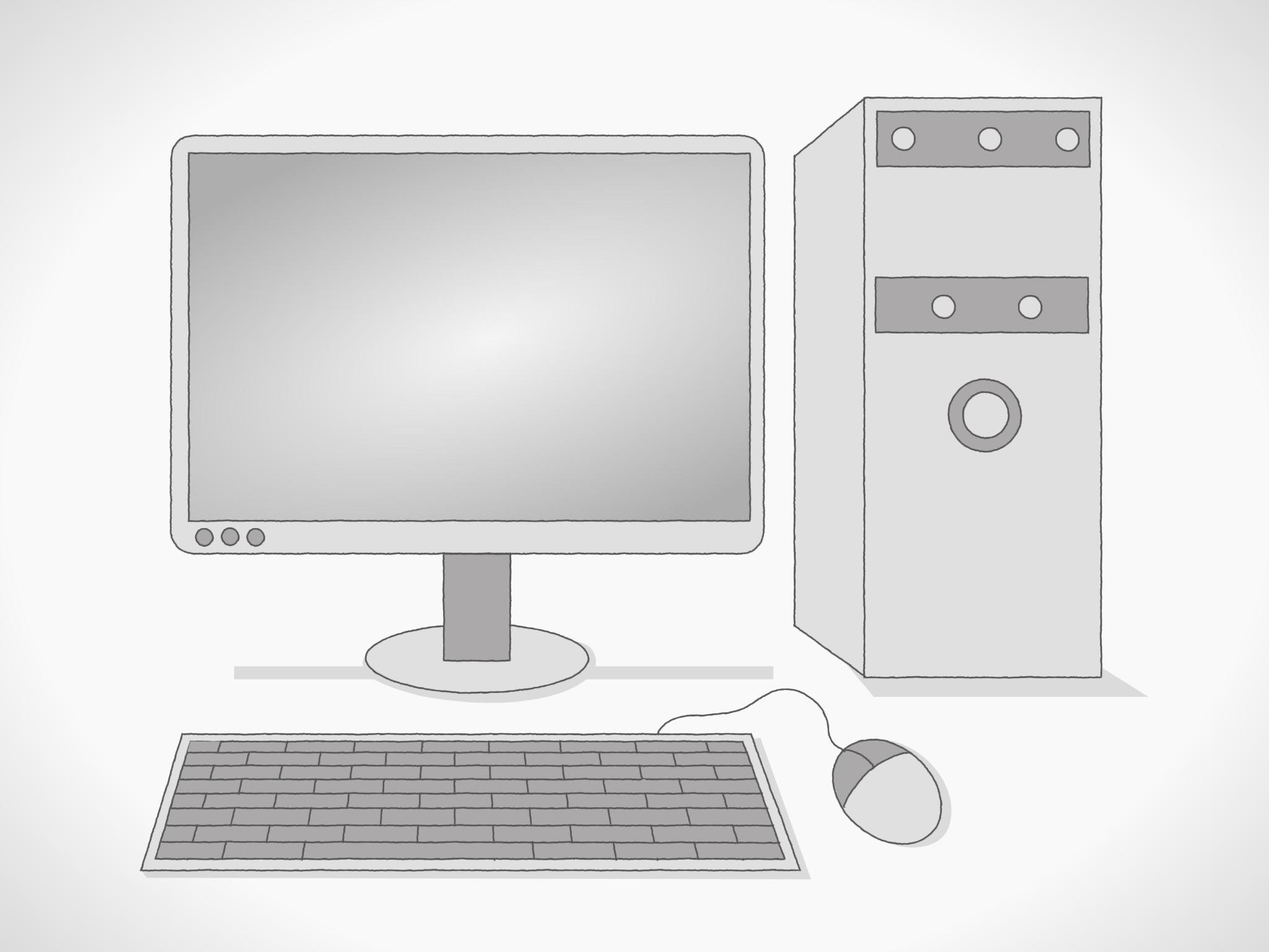keyboard: (149, 728, 805, 867)
monitor: (167, 131, 777, 557)
mouse: (829, 736, 950, 845)
pc: (793, 83, 1108, 680)
